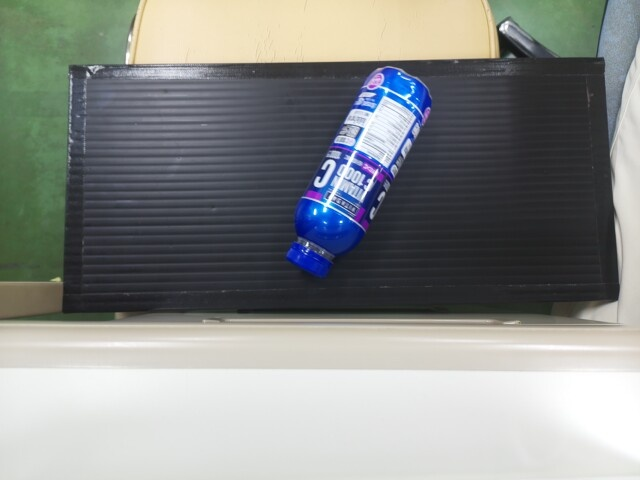plastic_bottle: (293, 65, 434, 272)
